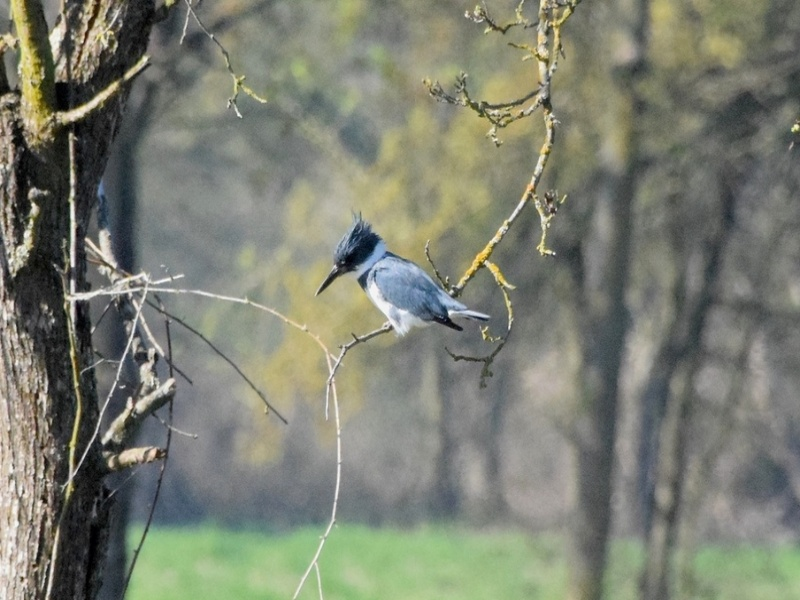kingfisher: (313, 208, 491, 341)
